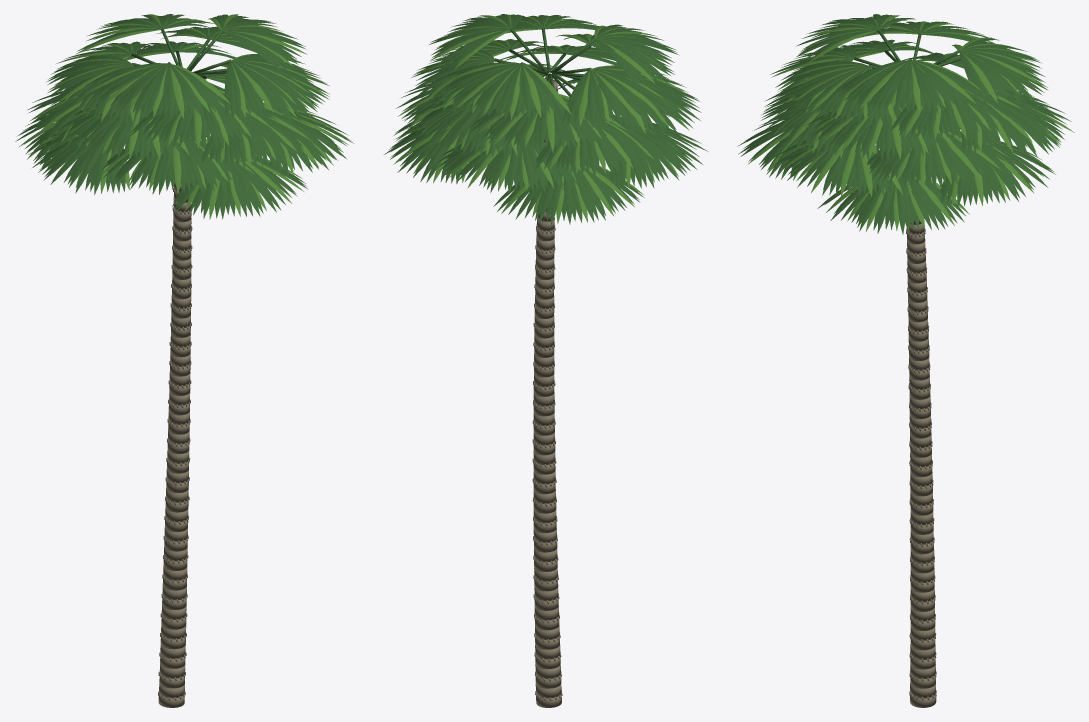
File: Production_Washingtonia_1.glb
The picture shows the model from 3 angles, left to right: view 1: azimuth 30°, elevation 25°; view 2: azimuth 150°, elevation 25°; view 3: azimuth 270°, elevation 25°; orthographic projection.
Visible parts, largest first — view 1: Production_Washingtonia_1_Landscape_LeafDark, Production_Washingtonia_1_Landscape_PalmTrunk, Production_Washingtonia_1_Landscape_LeafSun; view 2: Production_Washingtonia_1_Landscape_LeafDark, Production_Washingtonia_1_Landscape_PalmTrunk, Production_Washingtonia_1_Landscape_LeafSun; view 3: Production_Washingtonia_1_Landscape_LeafDark, Production_Washingtonia_1_Landscape_LeafSun, Production_Washingtonia_1_Landscape_PalmTrunk.
Part boxes in pixels (left/top/right/bottom): Production_Washingtonia_1_Landscape_LeafDark: left=15, top=14, right=353, bottom=219; Production_Washingtonia_1_Landscape_PalmTrunk: left=158, top=182, right=192, bottom=707; Production_Washingtonia_1_Landscape_LeafSun: left=19, top=14, right=351, bottom=219; Production_Washingtonia_1_Landscape_LeafDark: left=384, top=14, right=707, bottom=224; Production_Washingtonia_1_Landscape_PalmTrunk: left=532, top=79, right=562, bottom=707; Production_Washingtonia_1_Landscape_LeafSun: left=391, top=14, right=694, bottom=223; Production_Washingtonia_1_Landscape_LeafDark: left=737, top=14, right=1071, bottom=234; Production_Washingtonia_1_Landscape_LeafSun: left=745, top=15, right=1074, bottom=231; Production_Washingtonia_1_Landscape_PalmTrunk: left=906, top=217, right=936, bottom=707.
Bounding box in the file's own units: 4.95 × 10.62 × 4.89.
